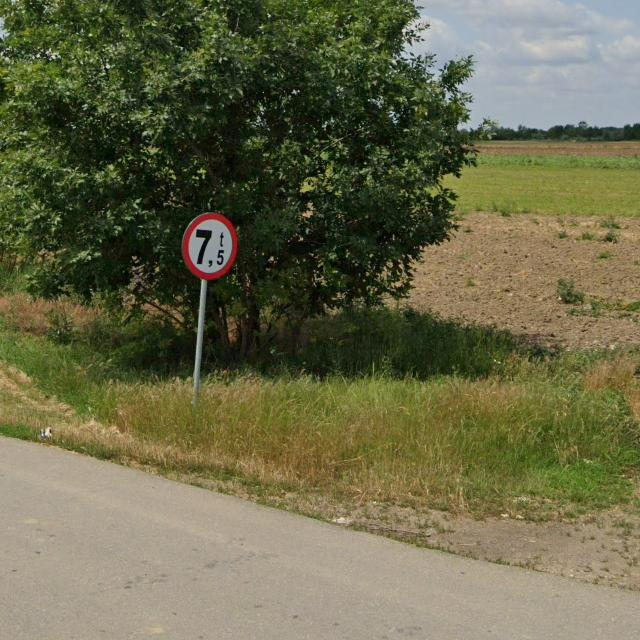forb_weight_over_7.5t: (182, 212, 238, 279)
